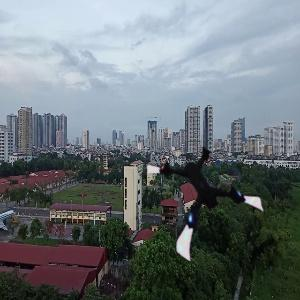drone: (153, 142, 266, 255)
